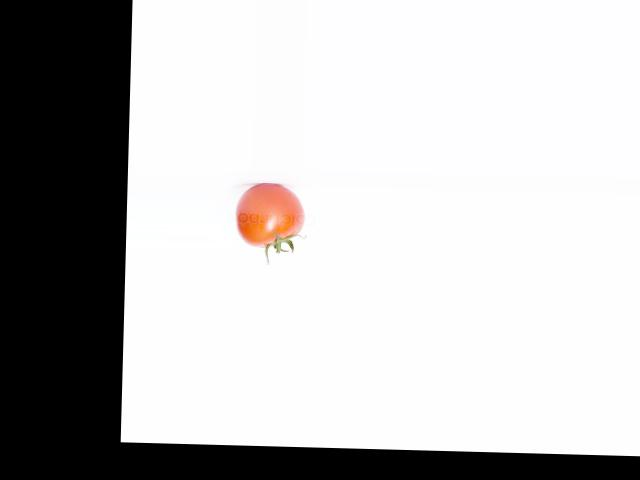tomato: (234, 183, 304, 248)
